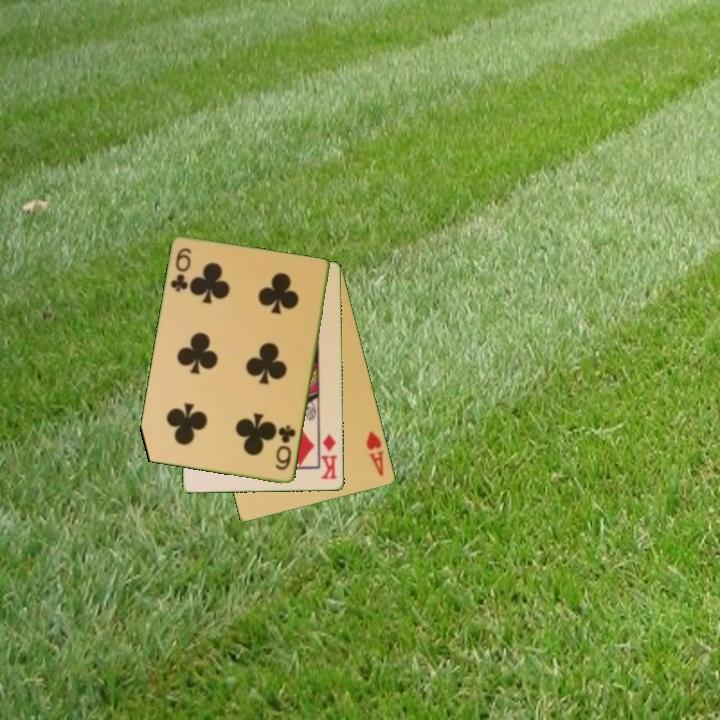6c: (167, 245, 195, 295), (272, 422, 299, 473)
Ah: (363, 428, 387, 479)
Kd: (318, 430, 340, 482)
